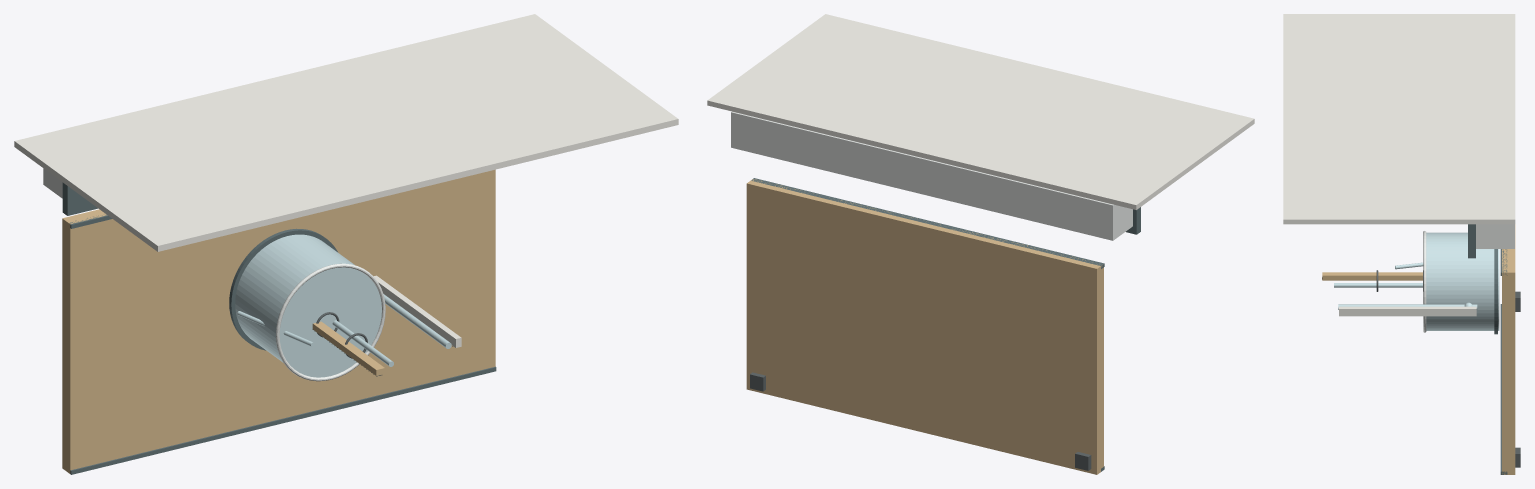
Rendered from rp08-charles-law.glb.
3 views of the same model, side by side, from view 1: azimuth 30°, elevation 25°; view 2: azimuth 150°, elevation 25°; view 3: azimuth 270°, elevation 25° (orthographic). The views are drawn at different scales.
Visible parts, largest first — view 1: Laboratory background wall, Laboratory bench laminate, Two litre beaker, Laboratory bench dark edge, Beaker top rim, Beaker heatproof mat, Thermometer scale card, Vertical ruler; view 2: Laboratory bench laminate, Laboratory background wall, Laboratory background cabinet carcass, Laboratory bench rear edge; view 3: Laboratory background wall, Two litre beaker, Laboratory bench laminate, Thermometer scale card, Laboratory background cabinet carcass, Vertical ruler, Capillary tube, Thermometer glass stem, Laboratory bench dark edge, Beaker top rim, Beaker heatproof mat, Laboratory background worktop.
Boxes of the visible parts, x1=… form: Laboratory background wall: x1=14, y1=14, x2=678, y2=251; Laboratory bench laminate: x1=62, y1=169, x2=495, y2=473; Two litre beaker: x1=235, y1=234, x2=381, y2=377; Laboratory bench dark edge: x1=70, y1=366, x2=496, y2=474; Beaker top rim: x1=276, y1=263, x2=385, y2=381; Beaker heatproof mat: x1=229, y1=228, x2=337, y2=350; Thermometer scale card: x1=374, y1=275, x2=461, y2=347; Vertical ruler: x1=312, y1=321, x2=384, y2=375; Laboratory bench laminate: x1=746, y1=179, x2=1103, y2=474; Laboratory background wall: x1=707, y1=14, x2=1254, y2=209; Laboratory background cabinet carcass: x1=731, y1=111, x2=1132, y2=240; Laboratory bench rear edge: x1=751, y1=178, x2=1104, y2=268; Laboratory background wall: x1=1283, y1=14, x2=1515, y2=224; Two litre beaker: x1=1426, y1=232, x2=1499, y2=330; Laboratory bench laminate: x1=1502, y1=224, x2=1515, y2=474; Thermometer scale card: x1=1339, y1=306, x2=1476, y2=316; Laboratory background cabinet carcass: x1=1476, y1=224, x2=1514, y2=248; Vertical ruler: x1=1322, y1=272, x2=1422, y2=280; Capillary tube: x1=1334, y1=283, x2=1422, y2=287; Thermometer glass stem: x1=1338, y1=304, x2=1477, y2=309; Laboratory bench dark edge: x1=1500, y1=304, x2=1507, y2=474; Beaker top rim: x1=1423, y1=231, x2=1426, y2=332; Beaker heatproof mat: x1=1494, y1=249, x2=1497, y2=334; Laboratory background worktop: x1=1468, y1=224, x2=1475, y2=258.
Bounding box in the file's own units: 10.9 × 6.78 × 5.32.
